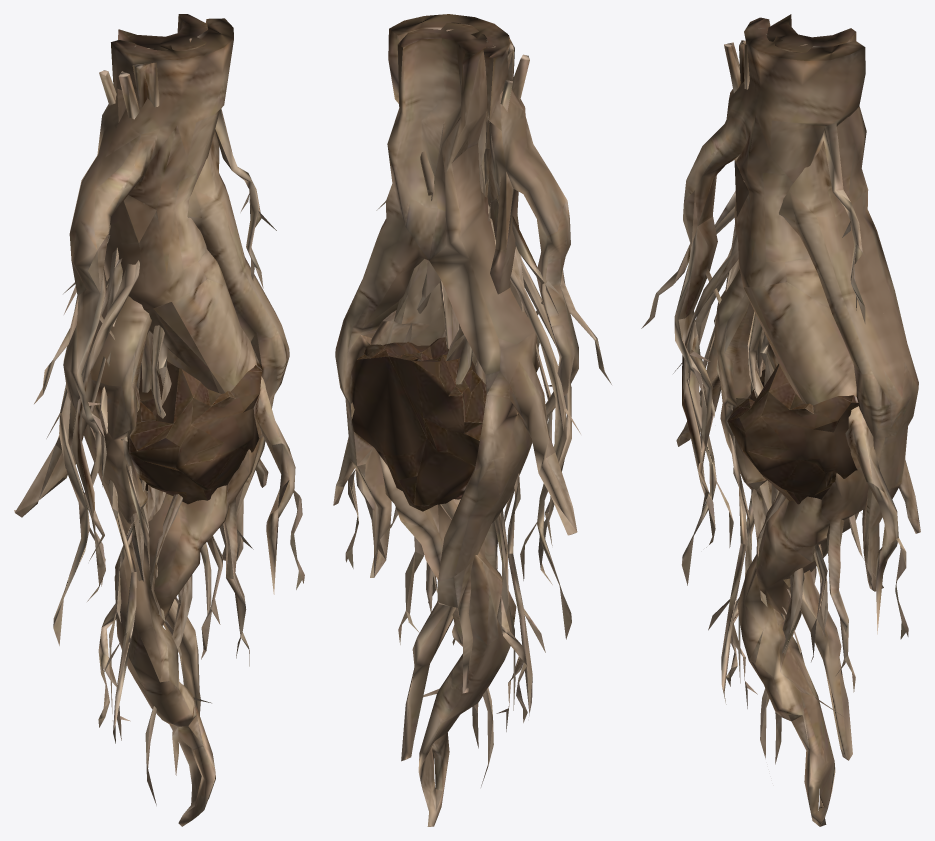
File: kokler.glb
3 views of the same model, side by side, from view 1: azimuth 30°, elevation 25°; view 2: azimuth 150°, elevation 25°; view 3: azimuth 330°, elevation 25° (orthographic).
Parts seen in each view (by area): view 1: kok_uzun, kok_topak, kok_sacak; view 2: kok_topak, kok_uzun, kok_sacak; view 3: kok_uzun, kok_topak, kok_sacak.
Boxes of the visible parts, x1,y1,x2,y2 form: kok_uzun: (34, 18, 304, 826); kok_topak: (14, 14, 289, 715); kok_sacak: (46, 38, 253, 805); kok_topak: (333, 22, 577, 761); kok_uzun: (345, 14, 611, 826); kok_sacak: (373, 29, 580, 786); kok_uzun: (641, 17, 908, 826); kok_topak: (676, 14, 920, 760); kok_sacak: (673, 28, 875, 758).
Bounding box in the file's own units: 0.5193 × 1.46 × 0.1931.
1 material, 1 textured.
